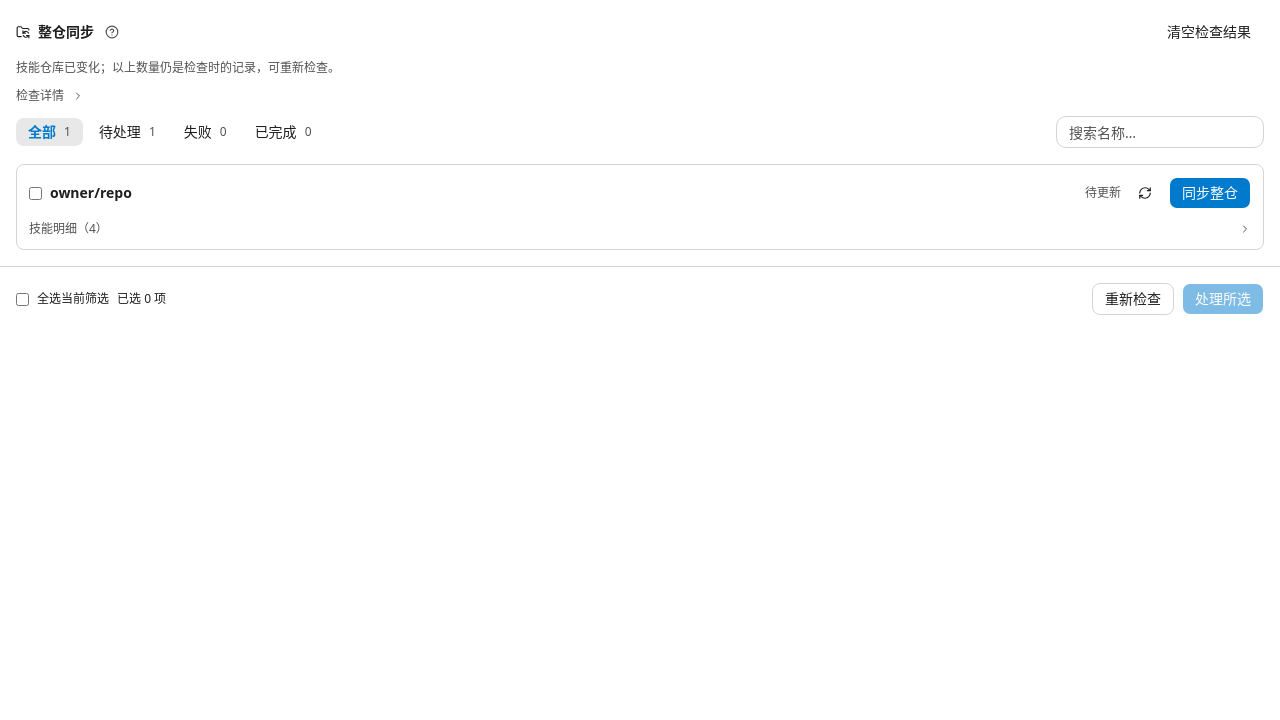
Test case: updates failed counts after a retry succeeds and shows a filtered empty state
What coordinates should you click on to do the following:
click the button "同步整仓"
I would click on:
 (1210, 193)
Its box is [1169, 177, 1251, 209].
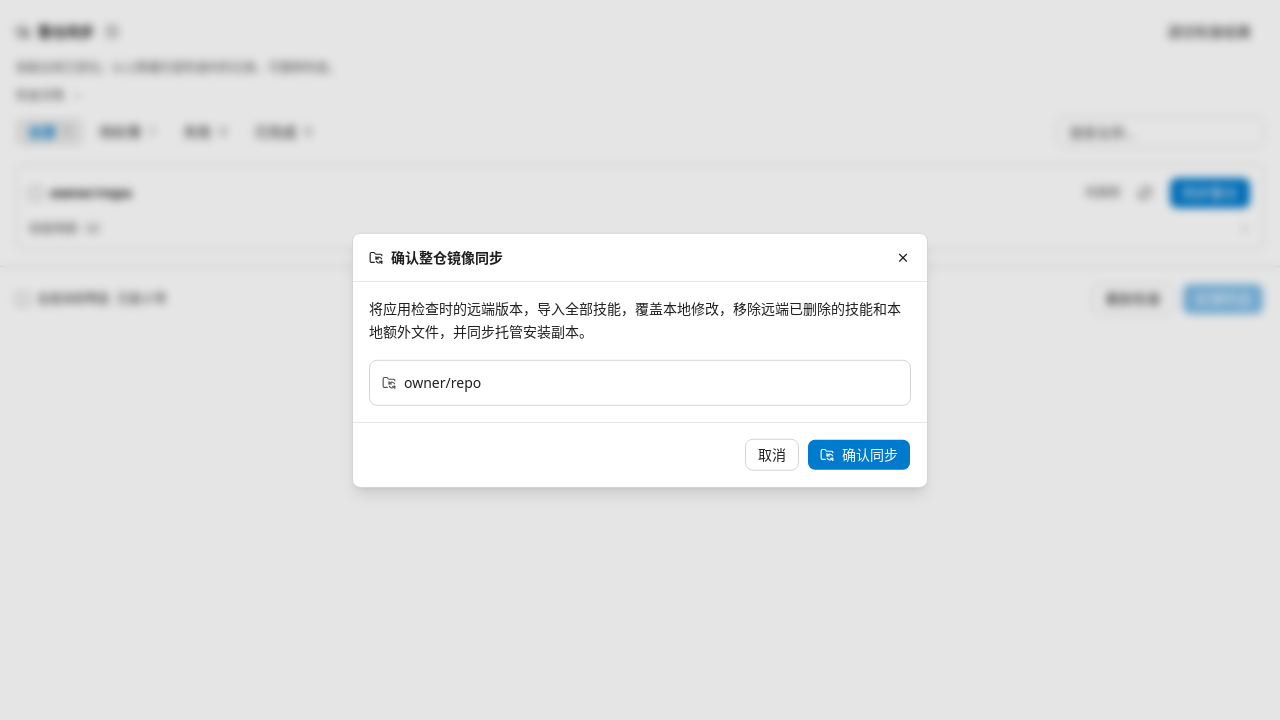
What coordinates should you click on to do the following:
click the button "确认同步"
I would click on:
 (859, 454)
Its box is [807, 438, 911, 470].
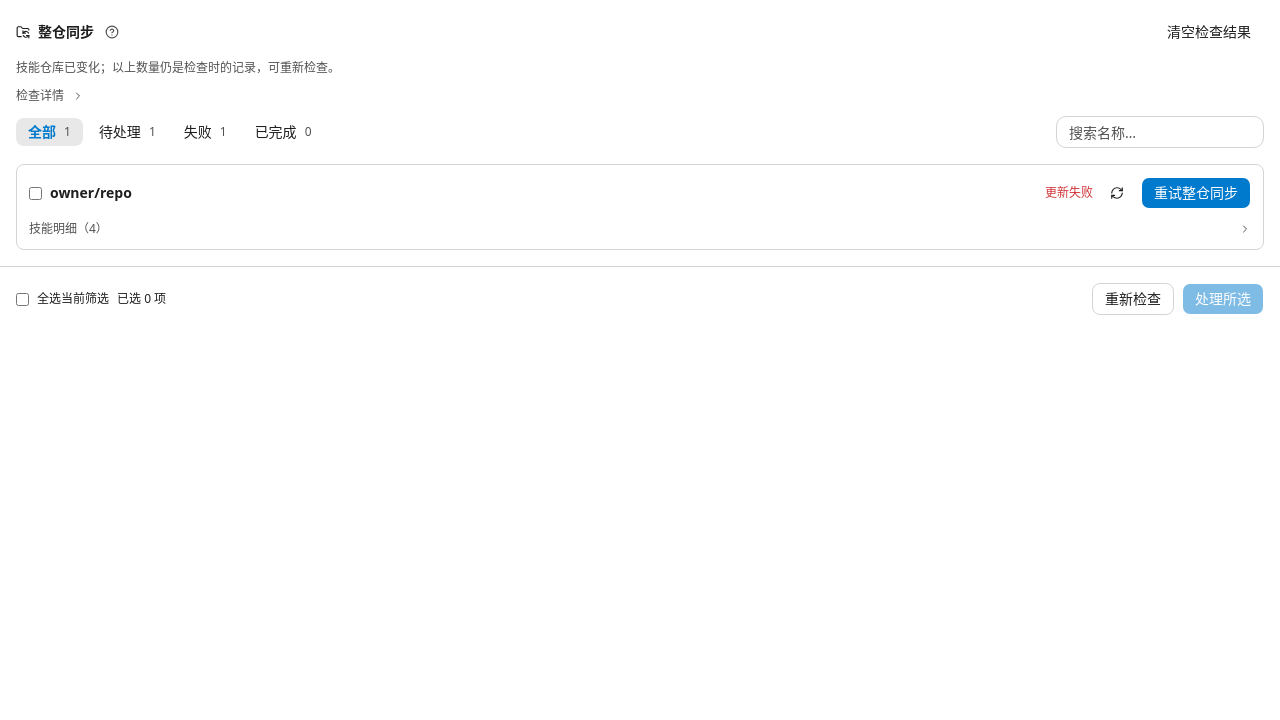
What coordinates should you click on to do the following:
click the button "失败 1"
I would click on:
 (205, 132)
Its box is [172, 118, 239, 146].
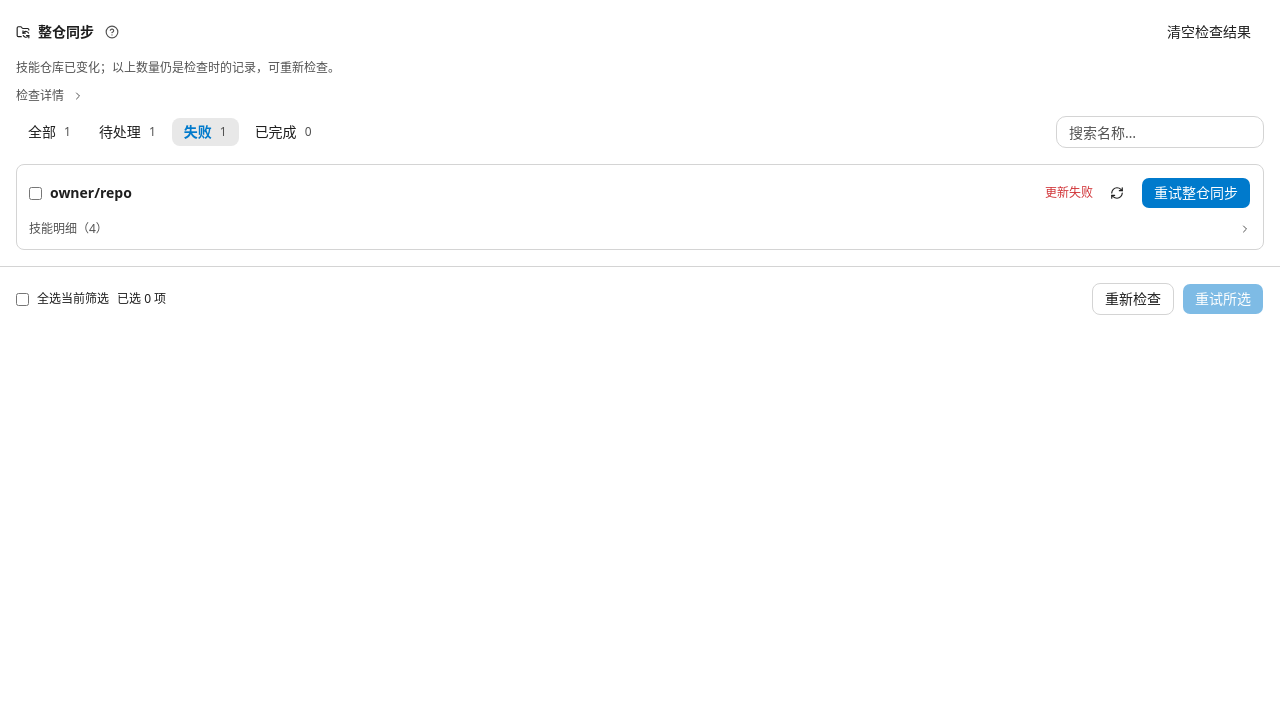
What coordinates should you click on to do the following:
click the button "重试整仓同步"
I would click on:
 (1196, 193)
Its box is [1141, 177, 1251, 209].
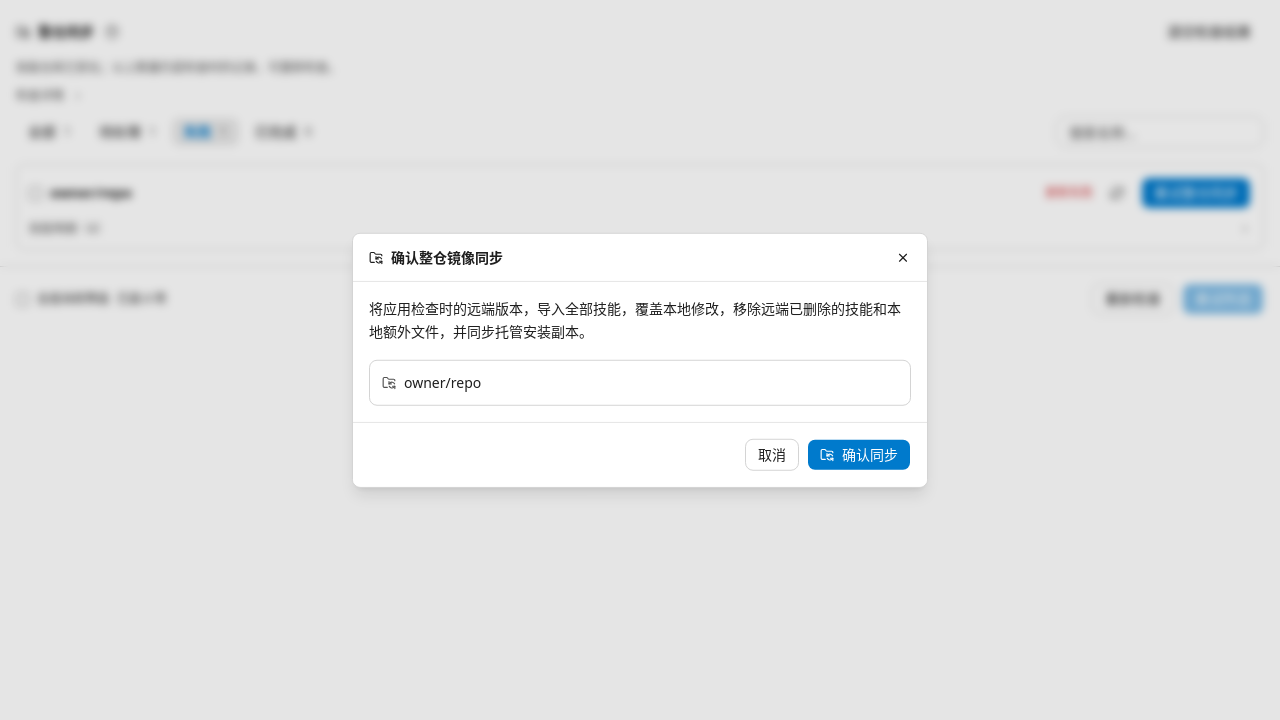
What coordinates should you click on to do the following:
click the button "确认同步"
I would click on:
 (859, 454)
Its box is [807, 438, 911, 470].
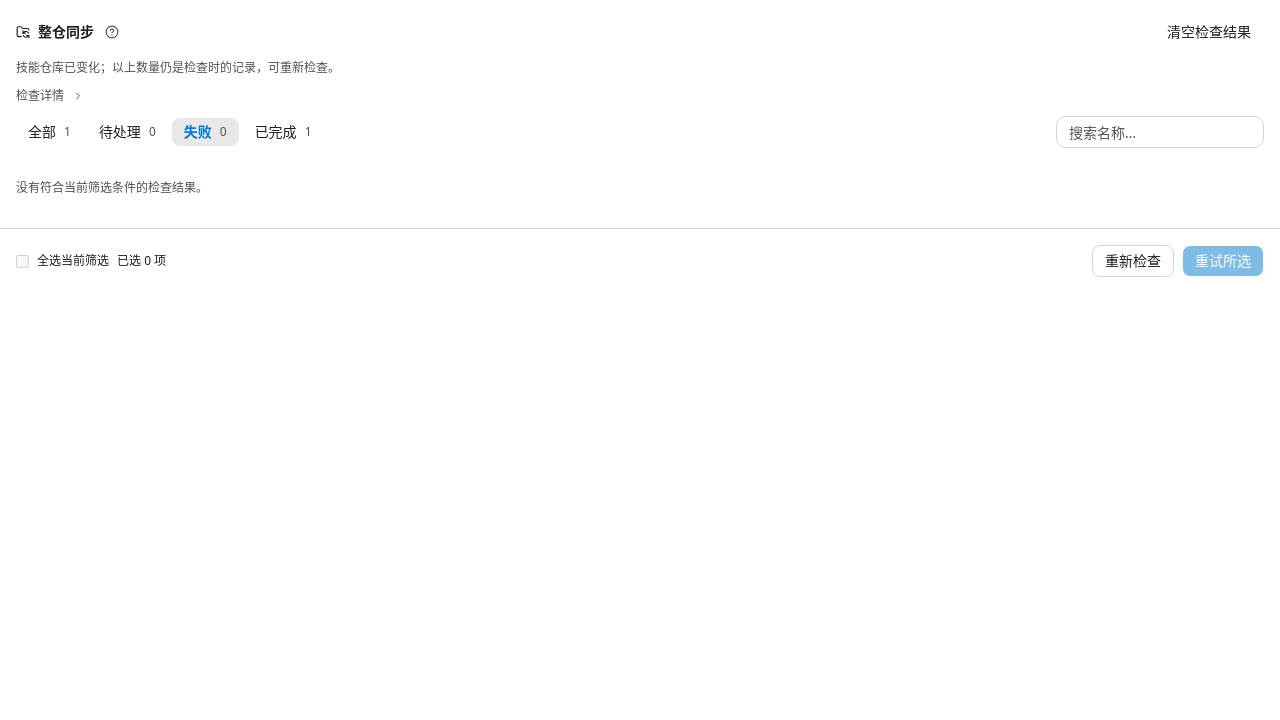
Now the text "owner/repo" is gone
Now the button "已完成 1" is shown, box [243, 118, 324, 146]
